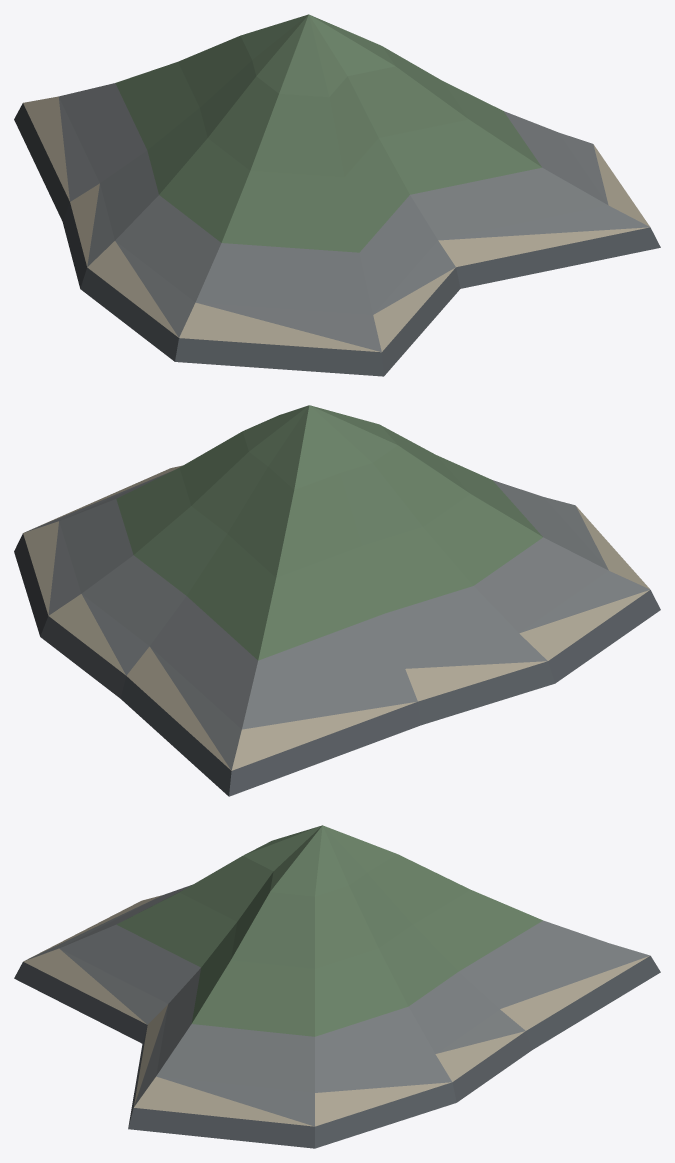
File: wrights_isle_lod1.glb
The picture shows the model from 3 angles, top to bottom: view 1: azimuth 30°, elevation 25°; view 2: azimuth 150°, elevation 25°; view 3: azimuth 270°, elevation 25°; orthographic projection. The views are drawn at different scales.
Size of the model in its own units: 1.88 by 0.7746 by 2.21.
